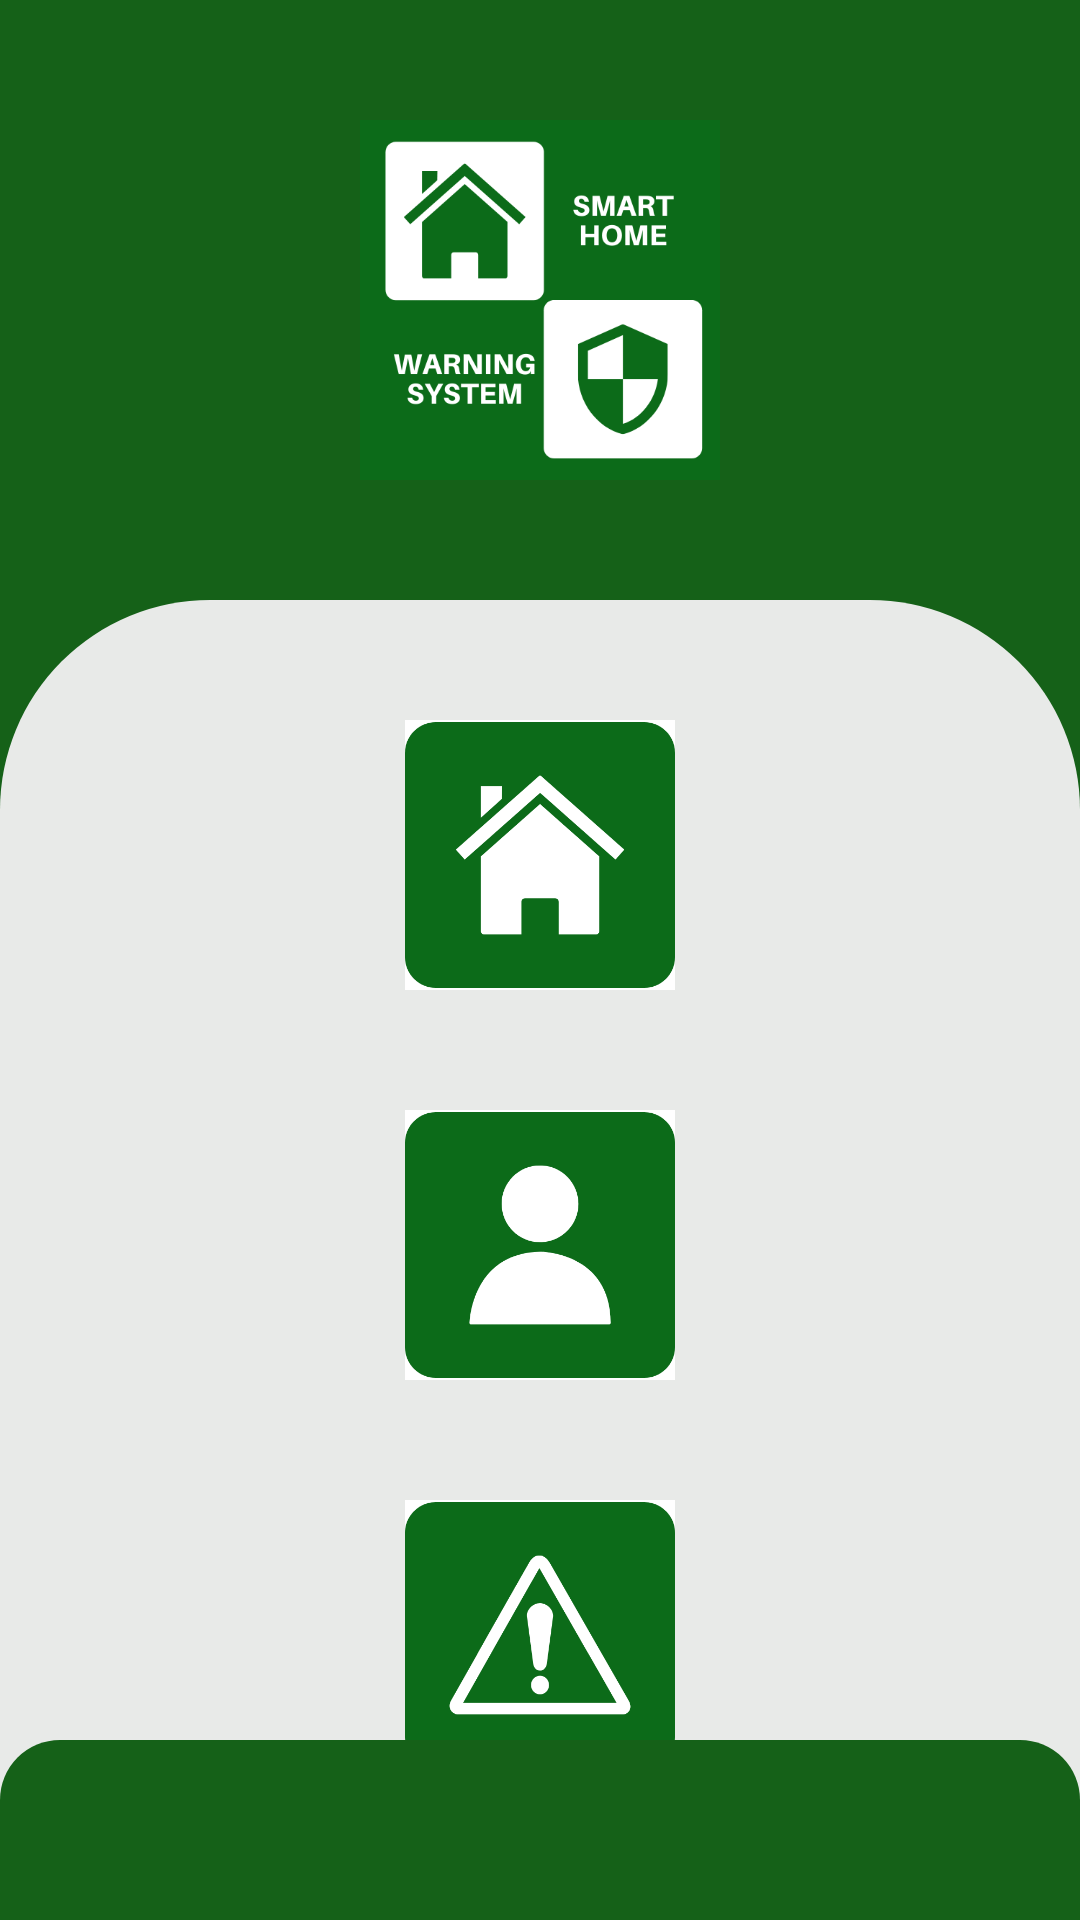

Named icons in this screenshot (1080*1920) and their bounding boxes, {"x1": x1, "y1": y1, "x2": x2, "y2": y2}:
home: {"x1": 405, "y1": 722, "x2": 675, "y2": 988}
profile: {"x1": 405, "y1": 1112, "x2": 675, "y2": 1378}
